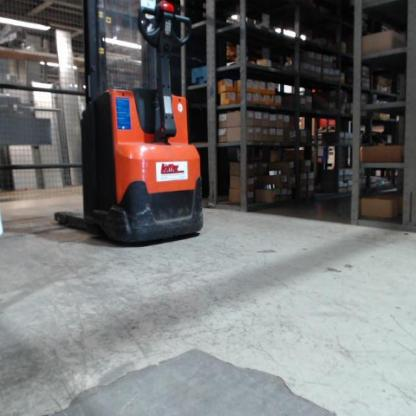pallet_truck: (54, 2, 208, 248)
small_load_carrier: (192, 66, 208, 87)
